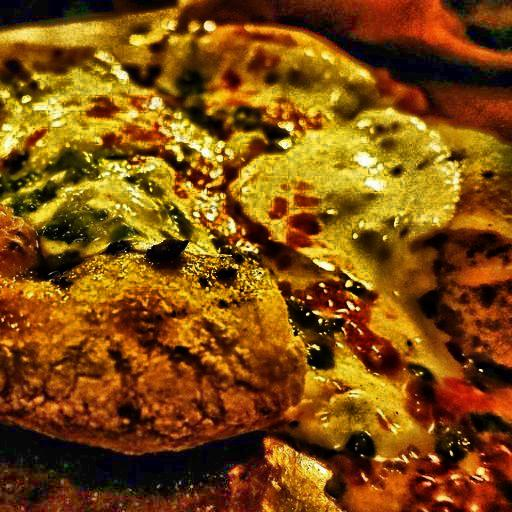pizza: (15, 22, 478, 442)
